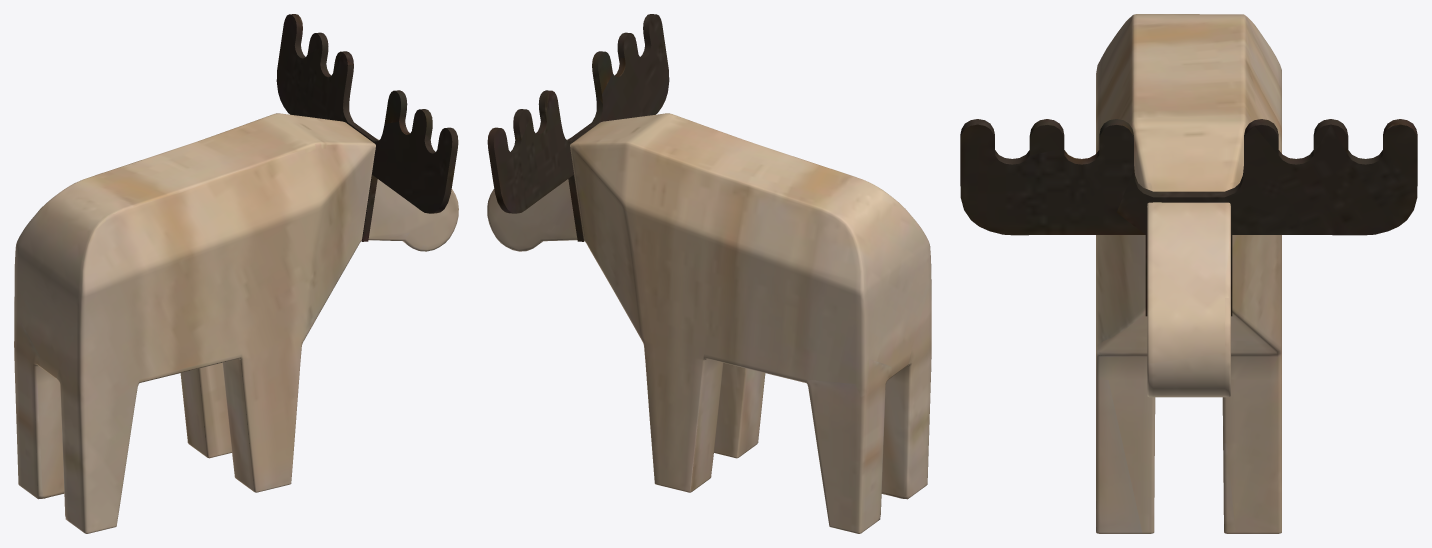
The model's file is hostagille_ozdoba_os_80630590.glb.
3 renders of one model, left to right at view 1: azimuth 30°, elevation 25°; view 2: azimuth 150°, elevation 25°; view 3: azimuth 270°, elevation 25°, orthographic. The views are drawn at different scales.
Parts seen in each view (by area): view 1: hostagille_ozdoba_os_80630590; view 2: hostagille_ozdoba_os_80630590; view 3: hostagille_ozdoba_os_80630590.
Part boxes in pixels (left/top/right/bottom): hostagille_ozdoba_os_80630590: left=14, top=14, right=458, bottom=533; hostagille_ozdoba_os_80630590: left=487, top=14, right=931, bottom=533; hostagille_ozdoba_os_80630590: left=960, top=14, right=1417, bottom=533.
Size of the model in its own units: 0.15 by 0.13 by 0.11.
Materials: 1 (1 with a texture image).
